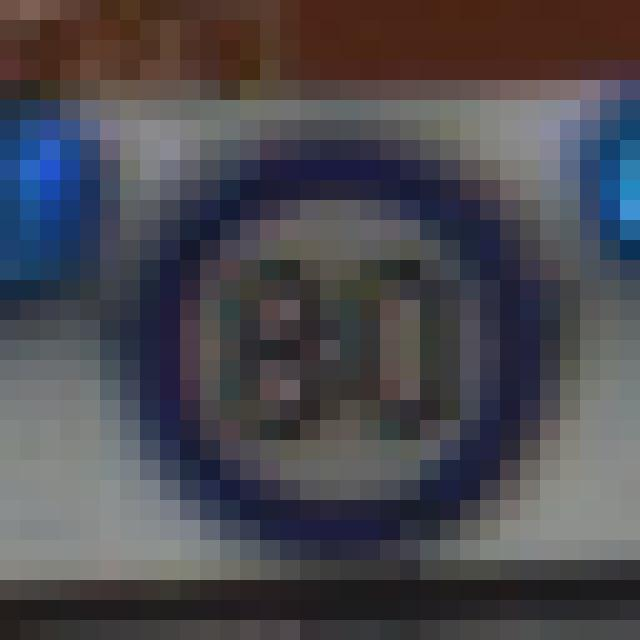SPEED-LIMIT-80: (120, 143, 526, 536)
